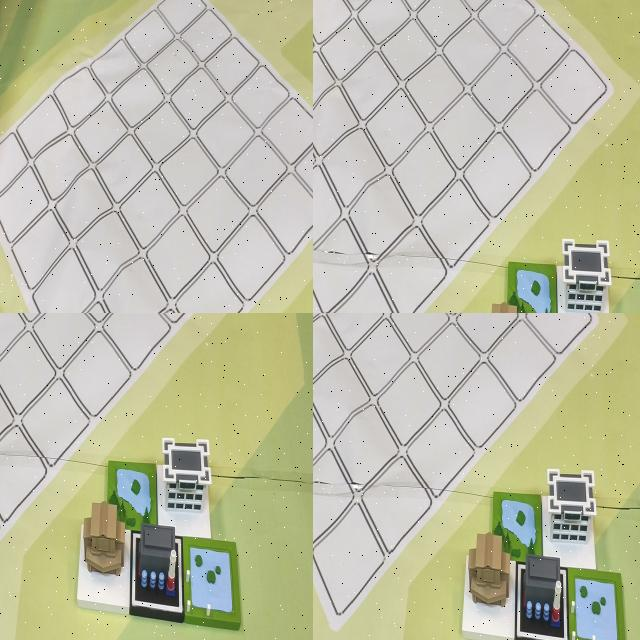bus_stop: (569, 557, 635, 640), (313, 33, 356, 143), (313, 510, 342, 621), (0, 521, 29, 629)
factory: (477, 237, 565, 313), (515, 541, 569, 640), (0, 517, 23, 581)
fish_pool: (334, 72, 408, 178)
forest: (558, 29, 632, 138), (313, 518, 342, 616)
gogo_shop: (318, 0, 384, 43), (0, 563, 29, 640), (313, 438, 338, 526)
research_build: (370, 0, 438, 105), (544, 469, 602, 571)
restaurant: (422, 22, 498, 148), (313, 418, 343, 511)
silicate_rock: (313, 239, 390, 313), (313, 522, 332, 611)
volunteer_center: (464, 531, 517, 640), (459, 0, 514, 64)
wet_land: (401, 203, 489, 313), (492, 484, 543, 563), (0, 431, 20, 504)
